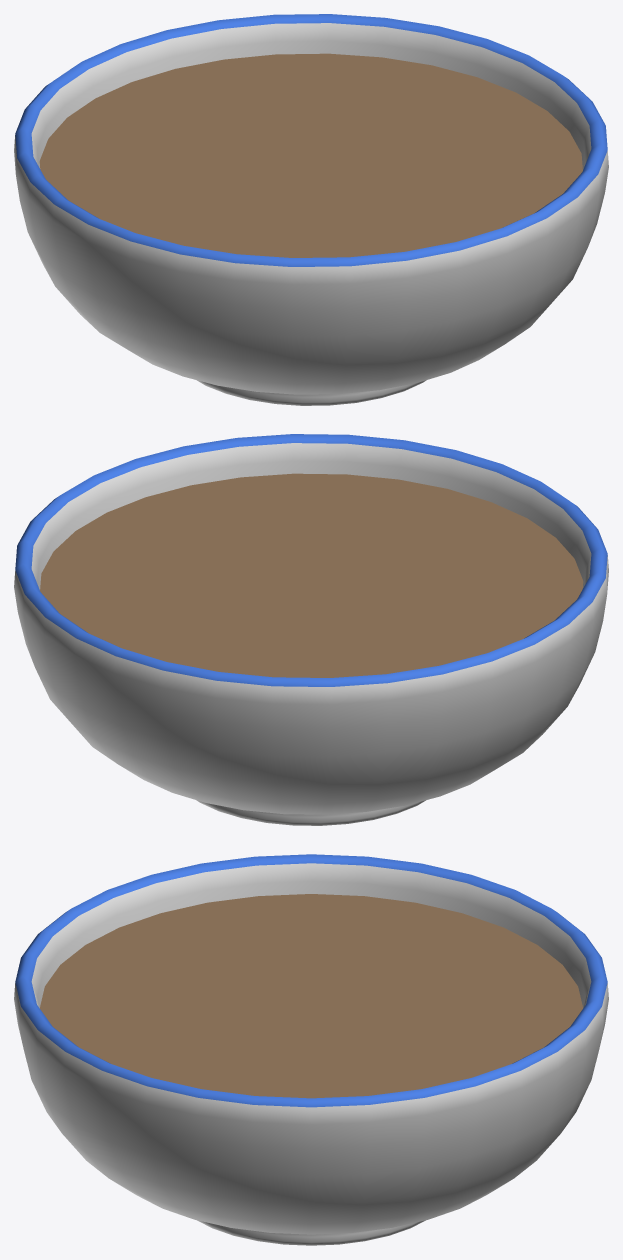
File: MushroomSoup.glb
3 renders of one model, top to bottom at view 1: azimuth 30°, elevation 25°; view 2: azimuth 150°, elevation 25°; view 3: azimuth 270°, elevation 25°, orthographic.
Visible parts, largest first — view 1: Bowl.001; view 2: Bowl.001; view 3: Bowl.001.
Boxes of the visible parts, bbox=[...] form: Bowl.001: bbox=[14, 14, 608, 405]; Bowl.001: bbox=[14, 434, 608, 825]; Bowl.001: bbox=[14, 854, 608, 1245].
Size of the model in its own units: 0.2184 by 0.0868 by 0.2184.
